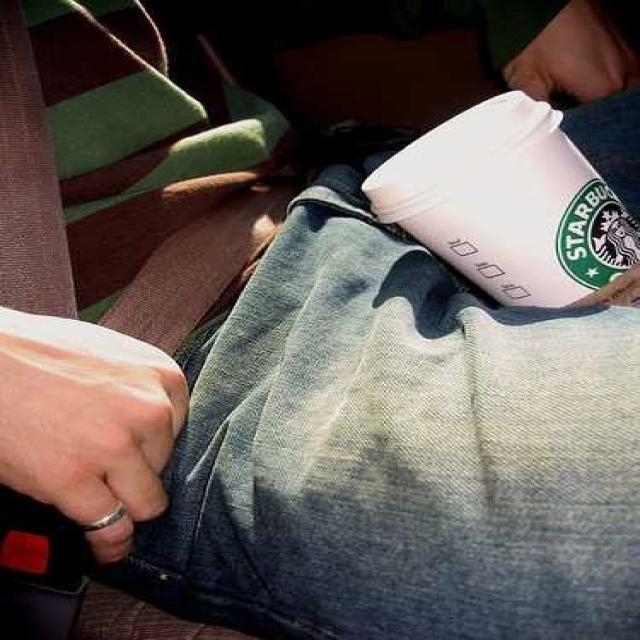seatbelt: (73, 157, 338, 393), (2, 37, 84, 334)
